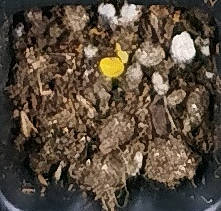pepper seed: (37, 17, 162, 96)
